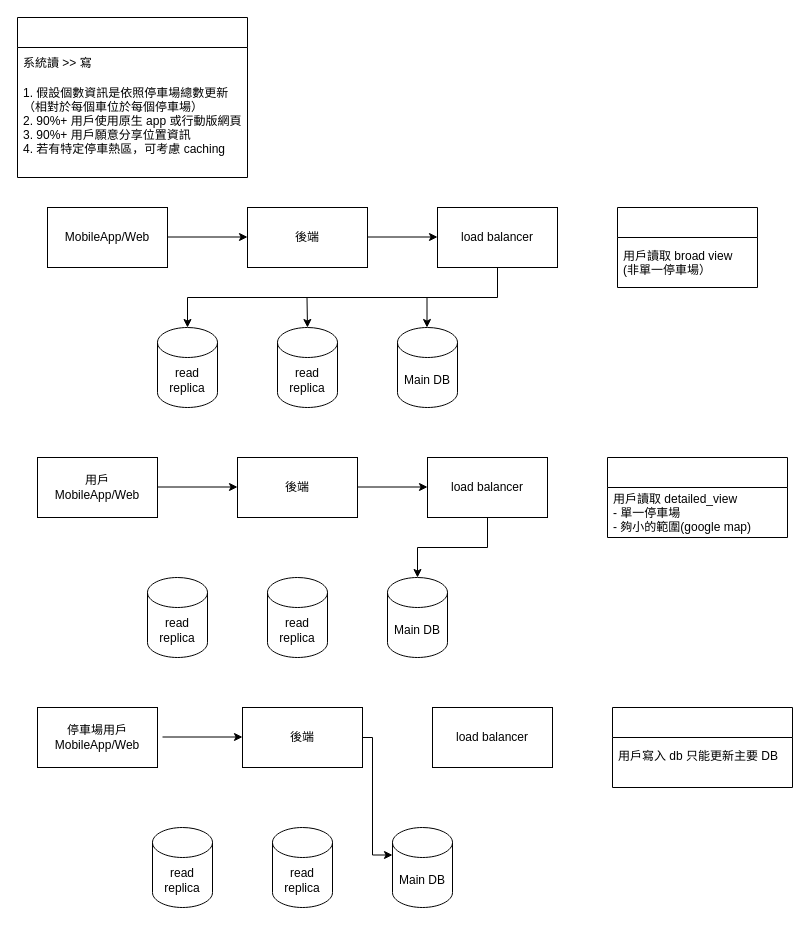
This 810x925 diagram has some shape labels left out. Each missing label, with the box of its shape:
情境 1: (616, 206, 758, 288)
情境 2: (606, 456, 788, 538)
情境 3: (612, 706, 792, 788)
設計假設: (16, 16, 248, 178)
